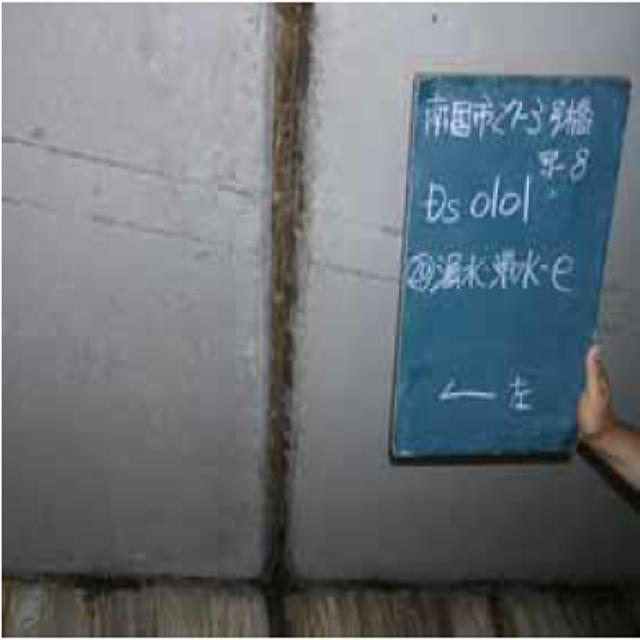corrosion: (240, 13, 326, 598)
